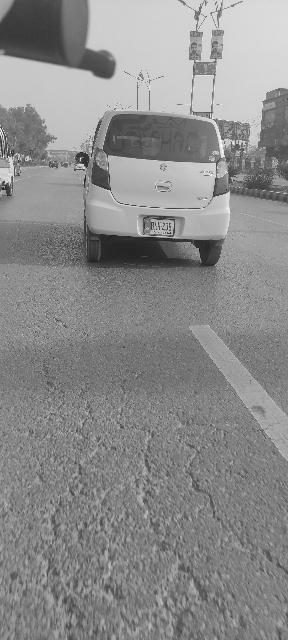Number: (149, 220, 173, 232)
